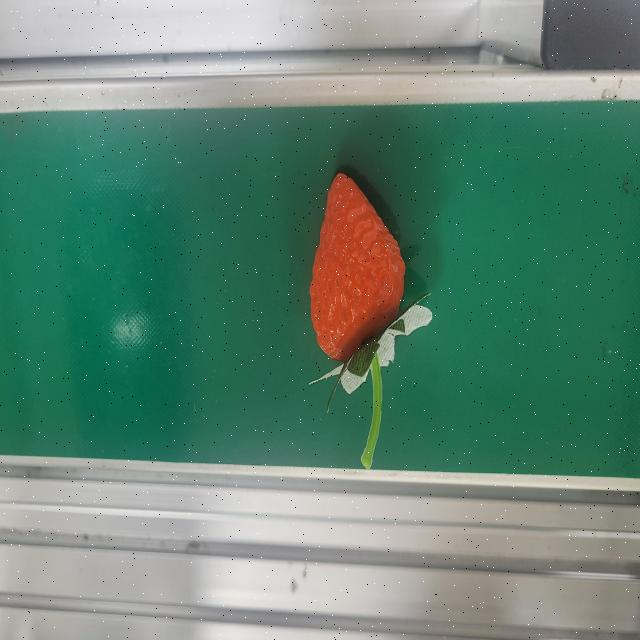Small Ripe Strawberry: (308, 168, 432, 396)
